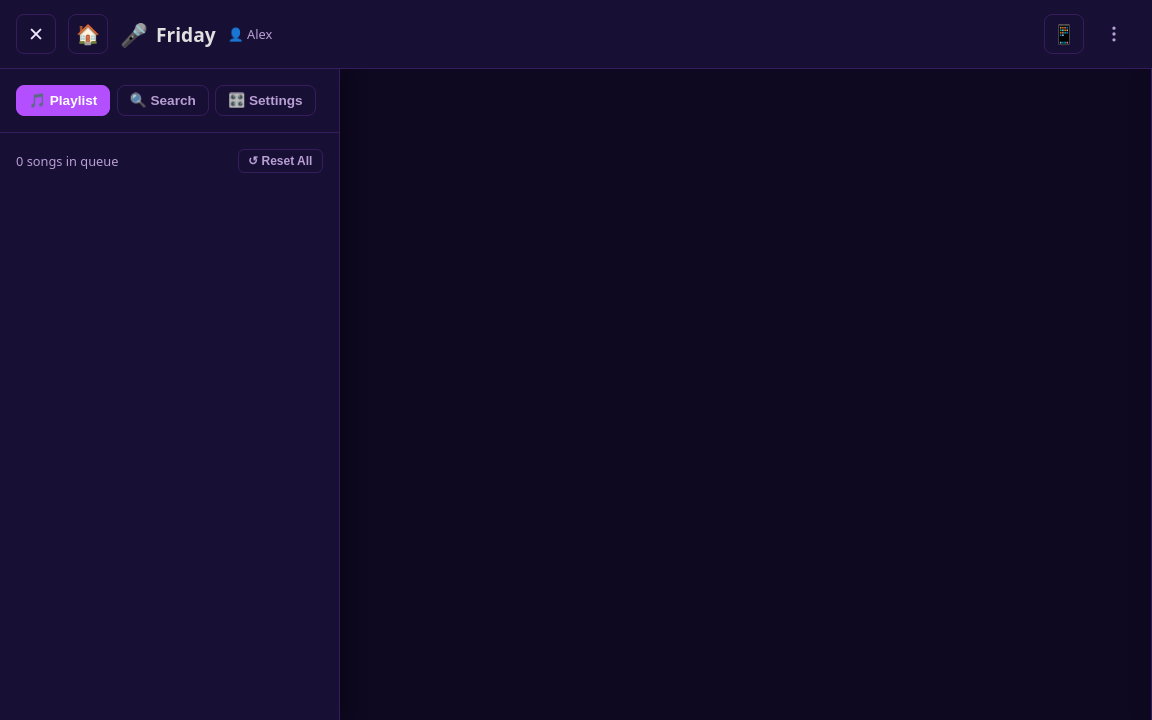
Test: party menu toggles the queue lock when initially locked: false
What coordinates should you click on to do the following:
click the button named "Party actions"
I would click on:
 (1114, 34)
Its box is x1=1092 y1=12 x2=1136 y2=56.
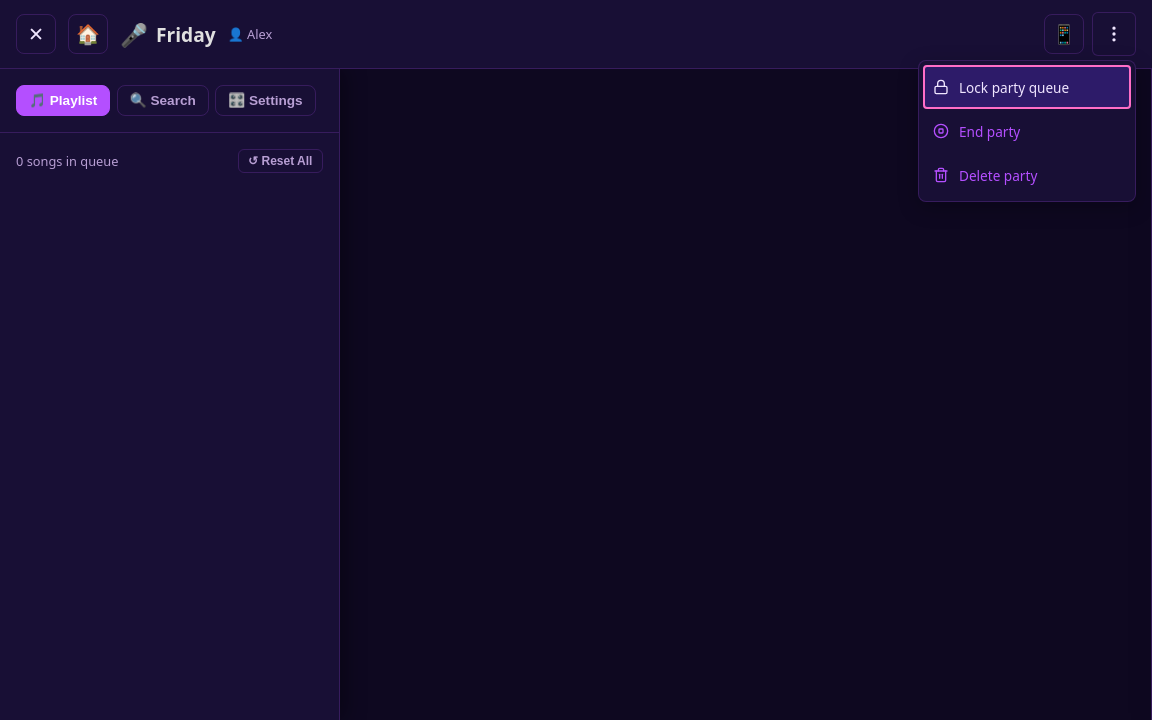
What coordinates should you click on to do the following:
click the menu item with aria-label "Lock party queue"
I would click on:
 (1027, 87)
Its box is x1=923 y1=65 x2=1131 y2=109.
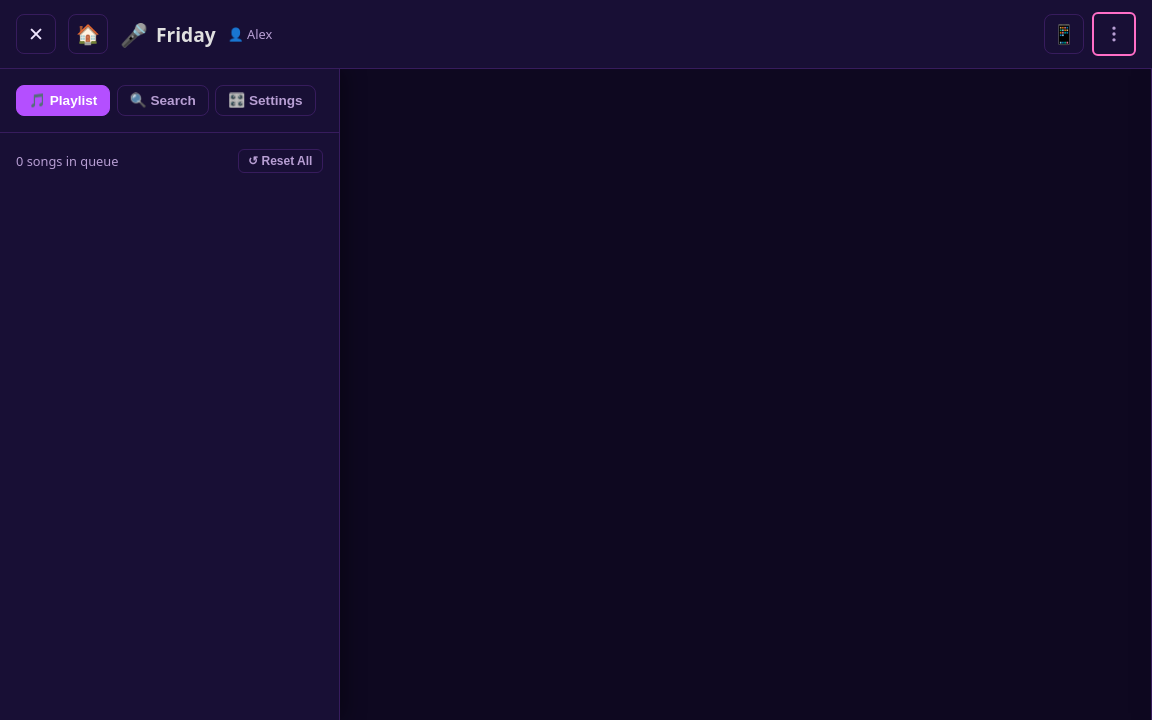
expect the menu is gone: met
What coordinates should you click on to do the following:
click the button named "Party actions"
I would click on:
 (1114, 34)
Its box is x1=1092 y1=12 x2=1136 y2=56.
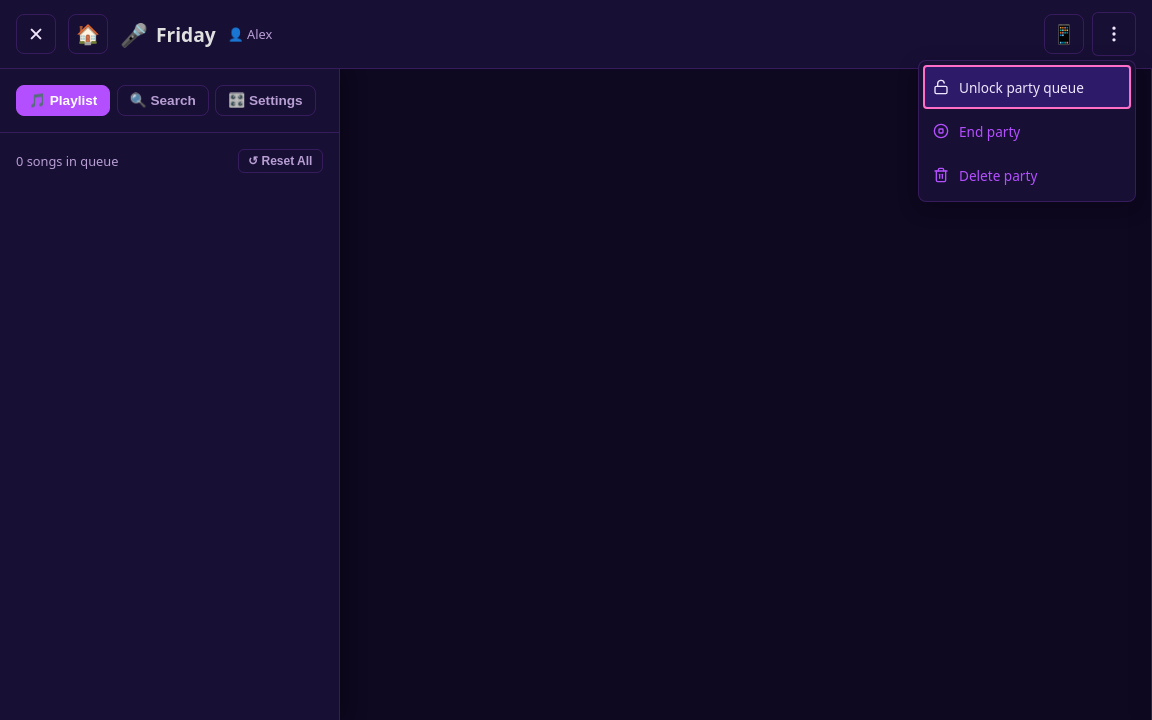
expect the menu item with aria-label "Unlock party queue" is shown: met, box x1=923 y1=65 x2=1131 y2=109
